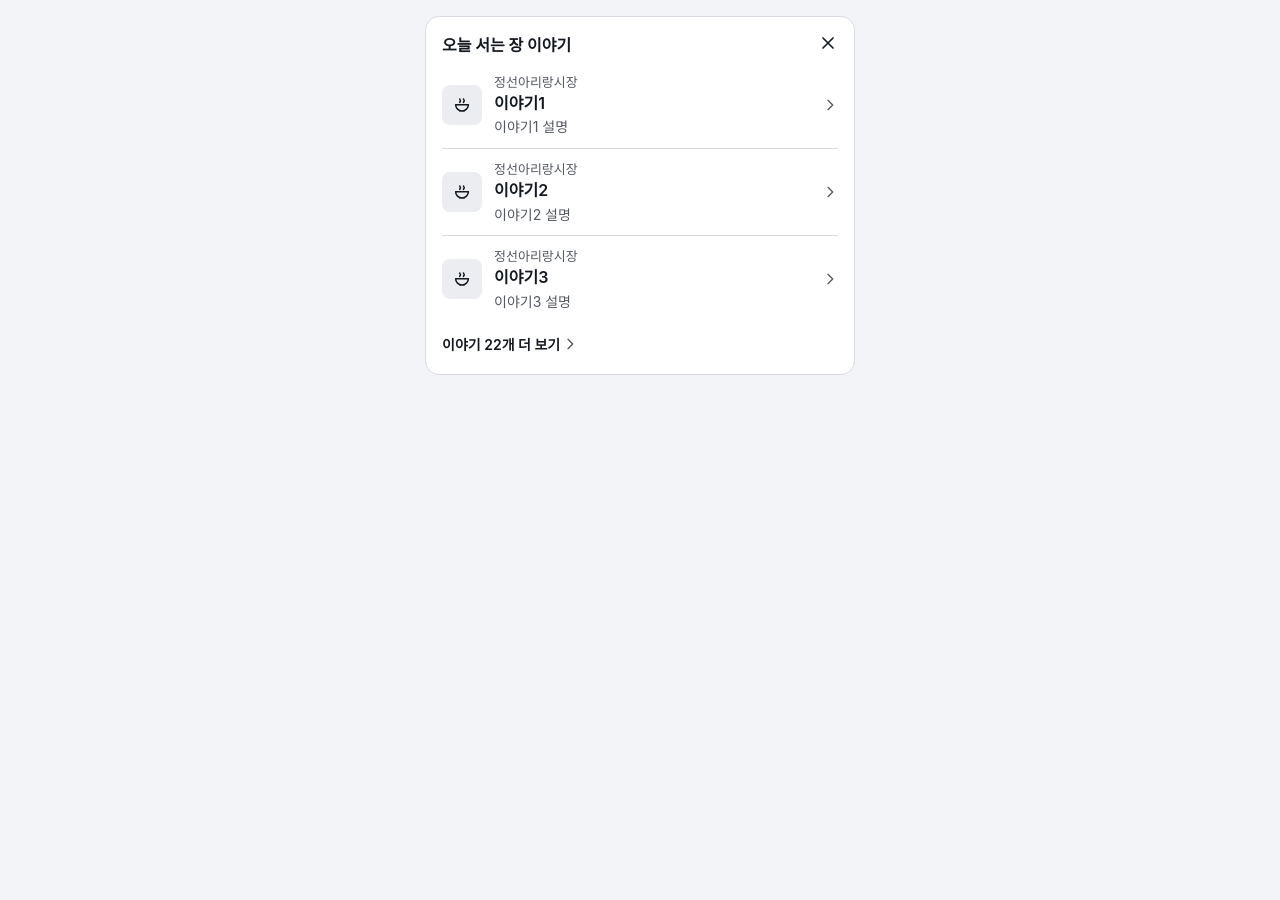
Test case: StoryListCard › moves the rest into a sheet that also leads to writing
Click the button "이야기 22개 더 보기" at (510, 344), box x1=442 y1=322 x2=578 y2=366
(page scrolled)
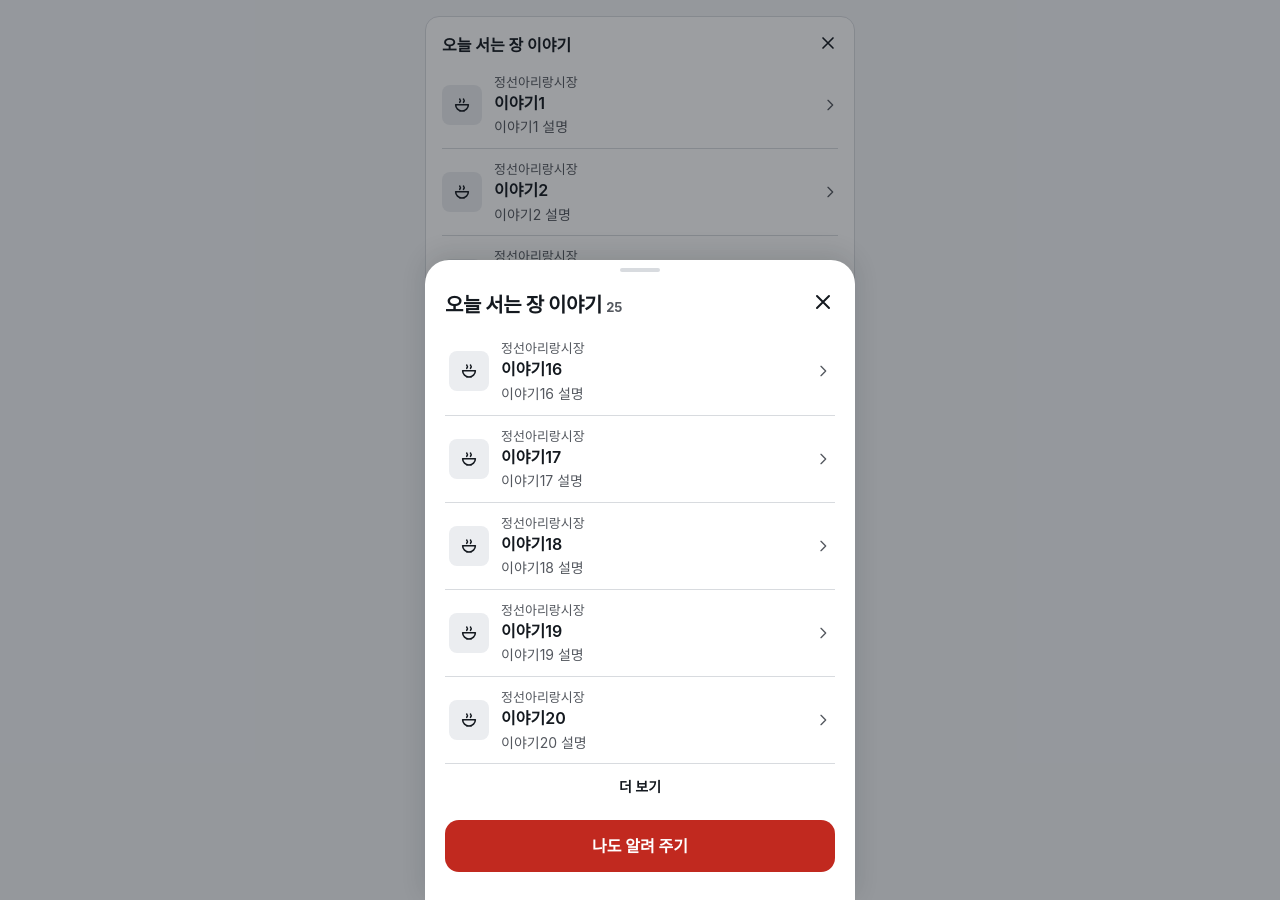
Click the button "더 보기" at (640, 786), box x1=445 y1=764 x2=835 y2=808
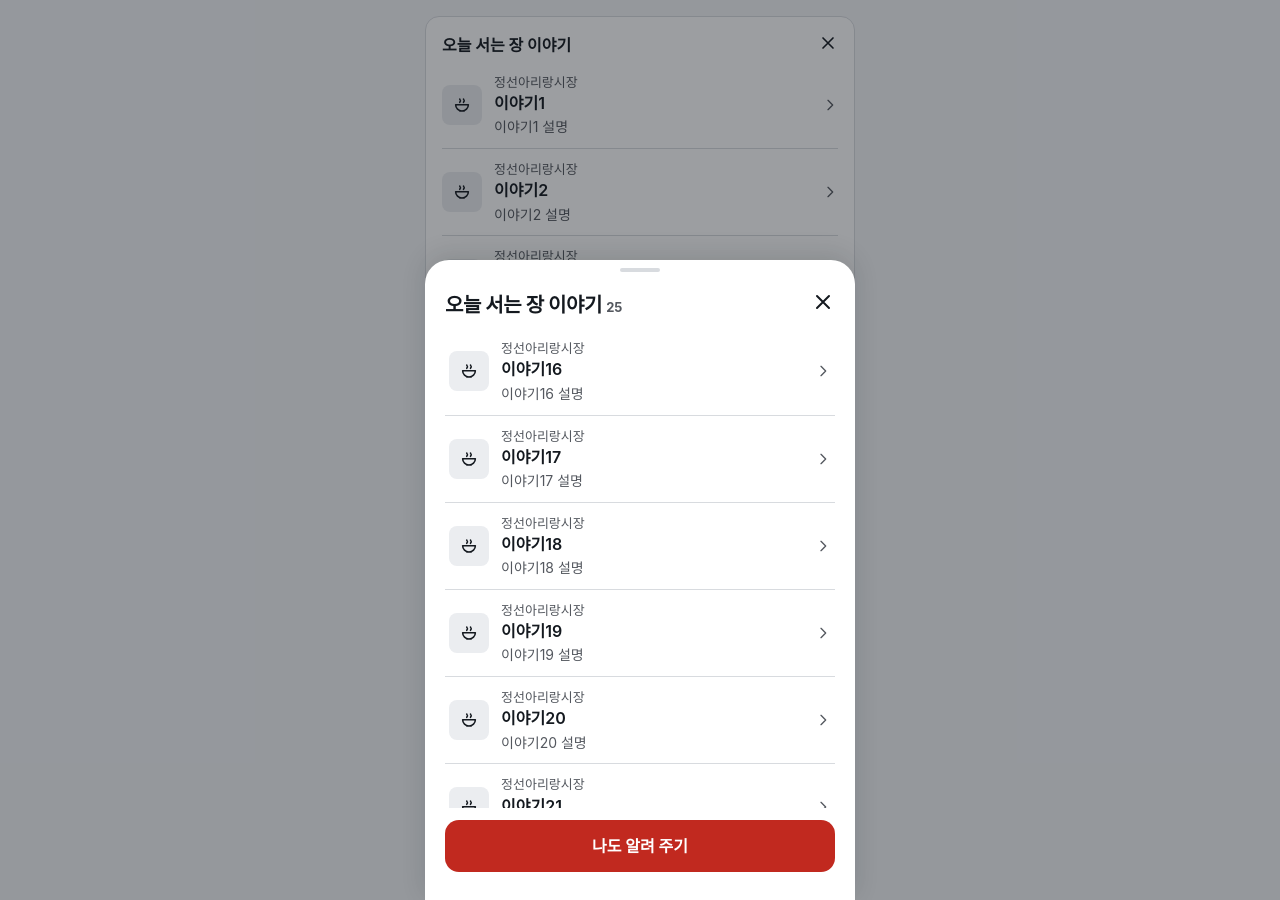
Click the button "나도 알려 주기" at (640, 846), box x1=445 y1=820 x2=835 y2=872
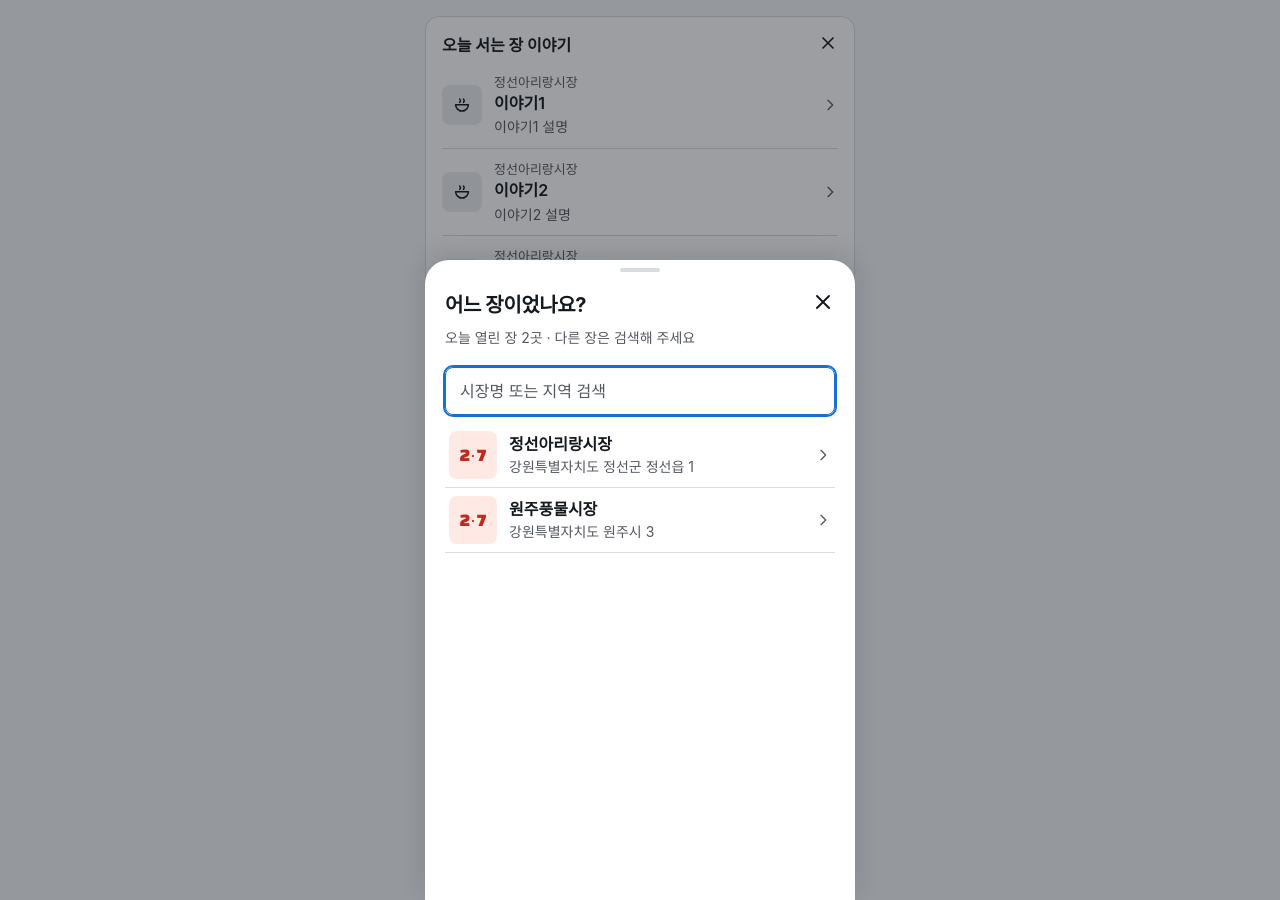
Now the dialog "어느 장이었나요?" is shown, box x1=425 y1=260 x2=855 y2=899
